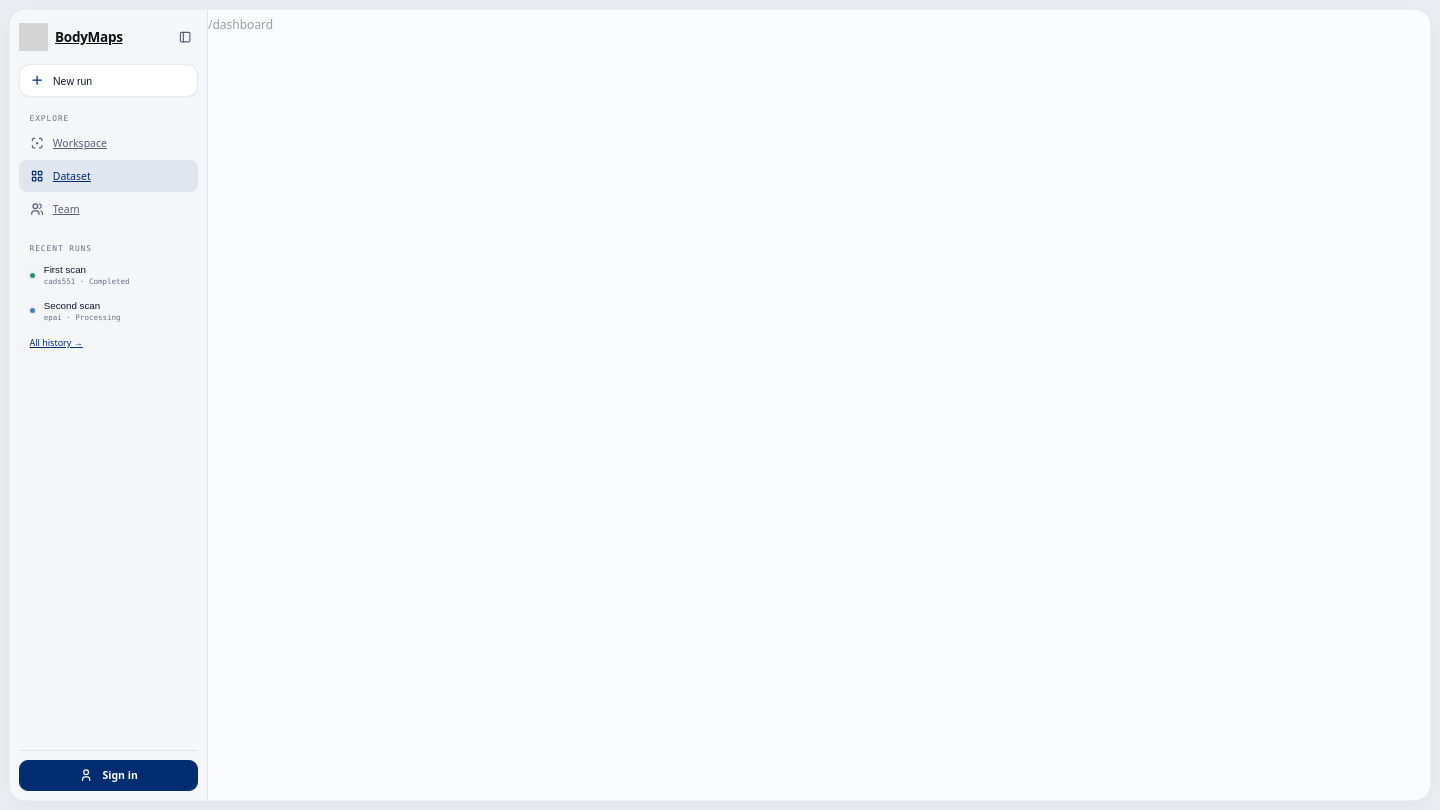
workspace sidebar › opens a completed result using its real session and retains other recent runs
This screenshot has width=1440, height=810.
Click the button "First scan cads551 · Completed" at (108, 275), box left=19, top=258, right=198, bottom=293
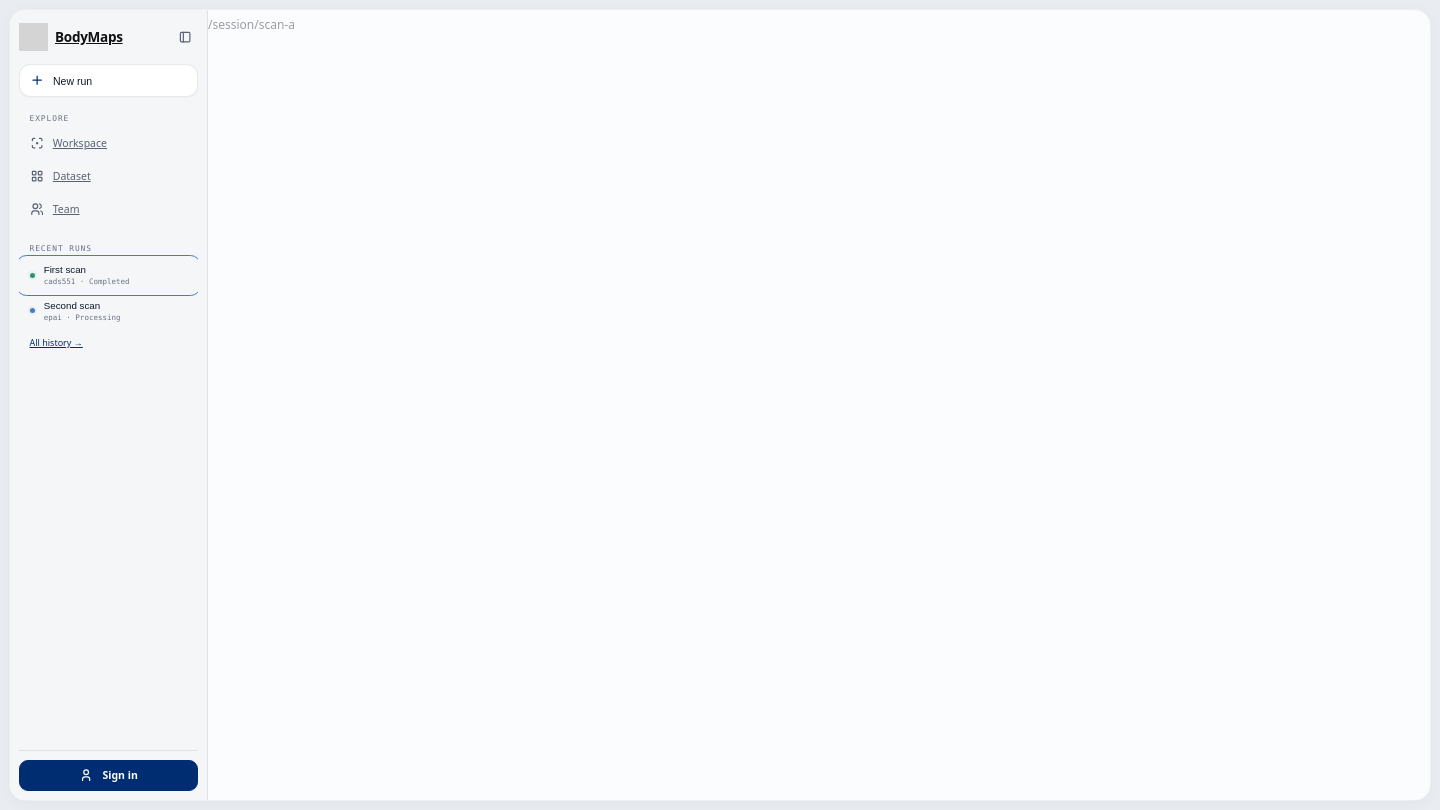
Expected: the text named "Current route" reads "/session/scan-a", left=208, top=15, right=295, bottom=32
